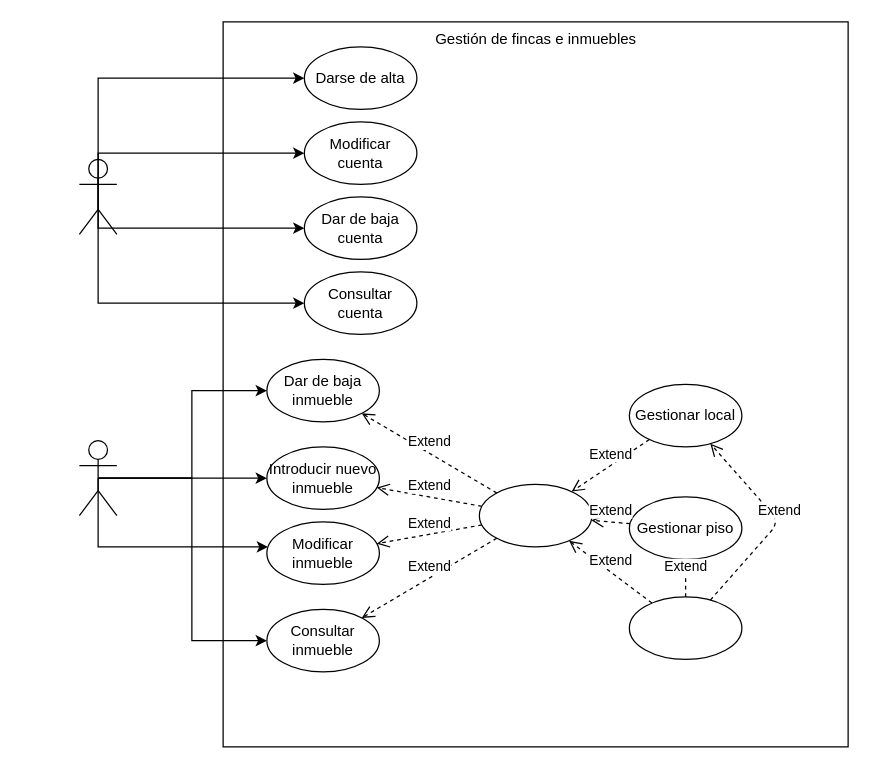
Image size: 870x769. Some labels were removed from this diagram. The shapes that lost their labels are listed below. From the top down, each one's box as (x1, y1, x2, y2) in pixels, then its label:
(78, 158, 117, 234): Persona con requisitos
(78, 439, 117, 516): Propietaria
(478, 483, 592, 547): Gestionar inmueble
(628, 596, 742, 659): Gestionar edificio
